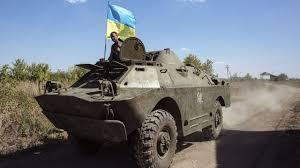tank: (39, 33, 238, 168)
